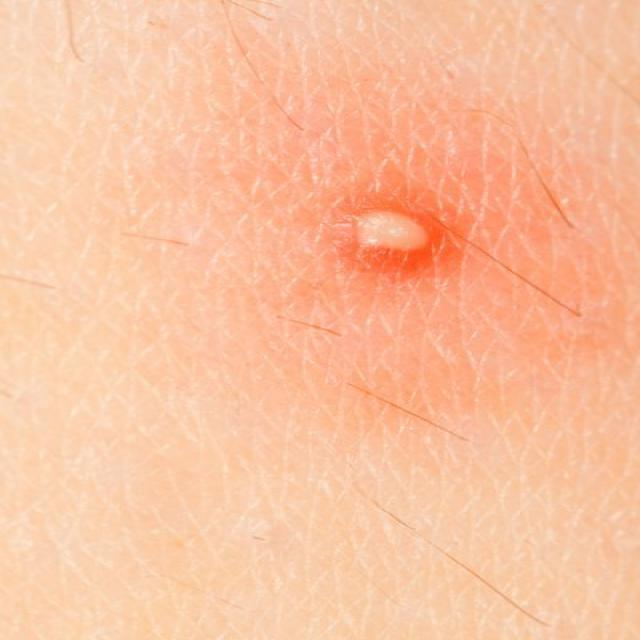pustule: (310, 181, 514, 316)
